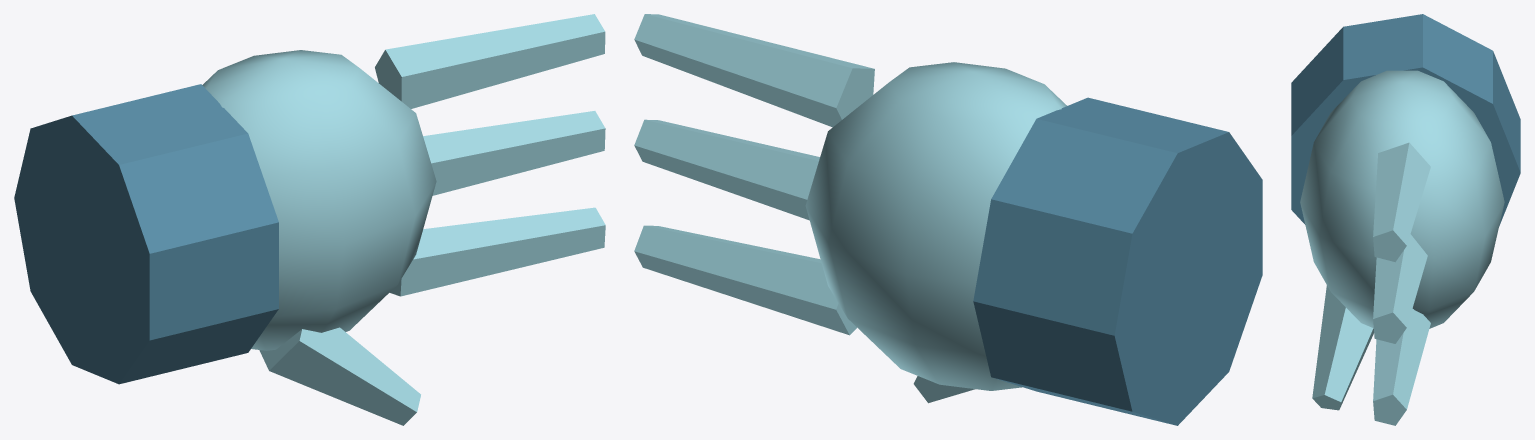
Rendered from hand_r.obj.
3 views of the same model, side by side, from view 1: azimuth 30°, elevation 25°; view 2: azimuth 150°, elevation 25°; view 3: azimuth 270°, elevation 25° (orthographic). The views are drawn at different scales.
Visible parts, largest first — view 1: Blue_wrist_cuff_R, Rounded_glove_palm_R, Glove_finger_R_2, Glove_finger_R_0, Glove_finger_R_1, Glove_thumb_R; view 2: Blue_wrist_cuff_R, Rounded_glove_palm_R, Glove_finger_R_2, Glove_finger_R_0, Glove_finger_R_1, Glove_thumb_R; view 3: Rounded_glove_palm_R, Blue_wrist_cuff_R, Glove_finger_R_2, Glove_thumb_R, Glove_finger_R_0, Glove_finger_R_1.
Boxes of the visible parts, box(x1,y1,x2,y2) form: Blue_wrist_cuff_R: box(14, 84, 278, 384); Rounded_glove_palm_R: box(202, 50, 436, 350); Glove_finger_R_2: box(375, 14, 605, 108); Glove_finger_R_0: box(389, 207, 605, 296); Glove_finger_R_1: box(423, 111, 605, 195); Glove_thumb_R: box(259, 327, 420, 425); Blue_wrist_cuff_R: box(973, 97, 1262, 425); Rounded_glove_palm_R: box(805, 62, 1066, 390); Glove_finger_R_2: box(634, 14, 874, 127); Glove_finger_R_0: box(634, 225, 856, 335); Glove_finger_R_1: box(634, 119, 819, 220); Glove_thumb_R: box(913, 376, 975, 403); Rounded_glove_palm_R: box(1300, 70, 1504, 328); Blue_wrist_cuff_R: box(1291, 14, 1520, 226); Glove_finger_R_2: box(1373, 142, 1430, 262); Glove_thumb_R: box(1312, 285, 1373, 410); Glove_finger_R_0: box(1373, 308, 1430, 425); Glove_finger_R_1: box(1373, 234, 1427, 343).
Bounding box in the file's own units: 0.4311 × 0.2842 × 0.1998.
